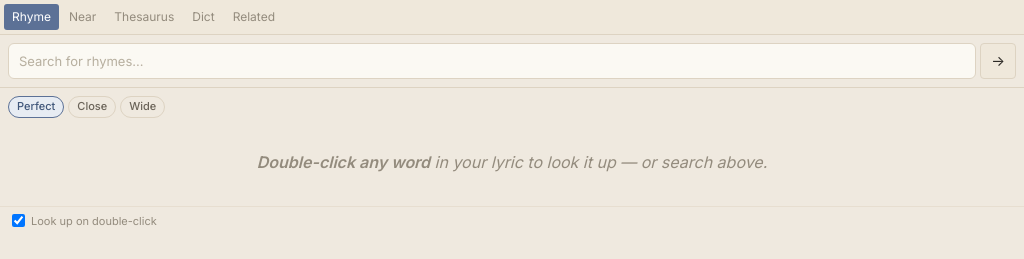
Test: Tools pane — filter chips, honest states, and collect (C-14) › T-14.15: a failed provider lookup shows the offline state, not an endless spinner
Type "test" into the field with test id "tools-search-input". click: (492, 61)
box: [8,43,976,79]
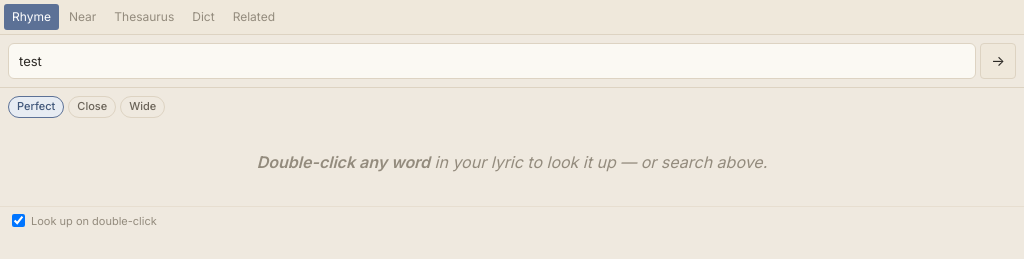
Click the button with test id "tools-search-button". click: (998, 61)
box: [980,43,1016,79]
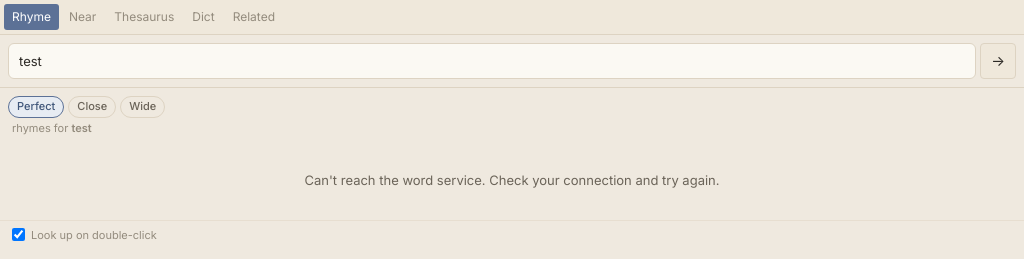
expect the element with test id "tools-results-offline" is shown: met, box [304,172,720,188]
